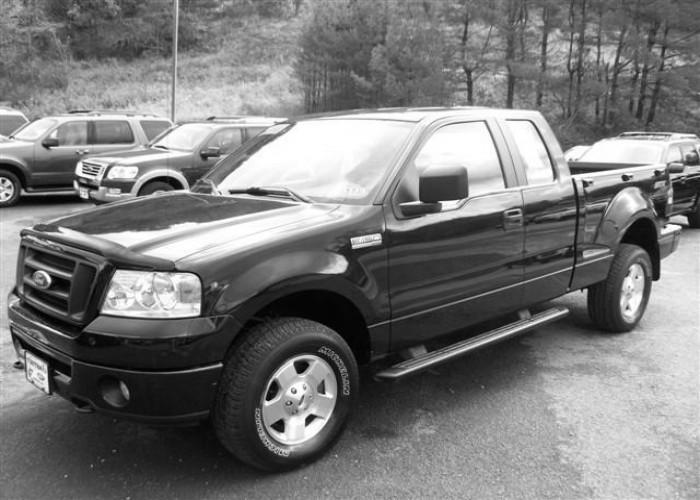car: (10, 105, 660, 475)
